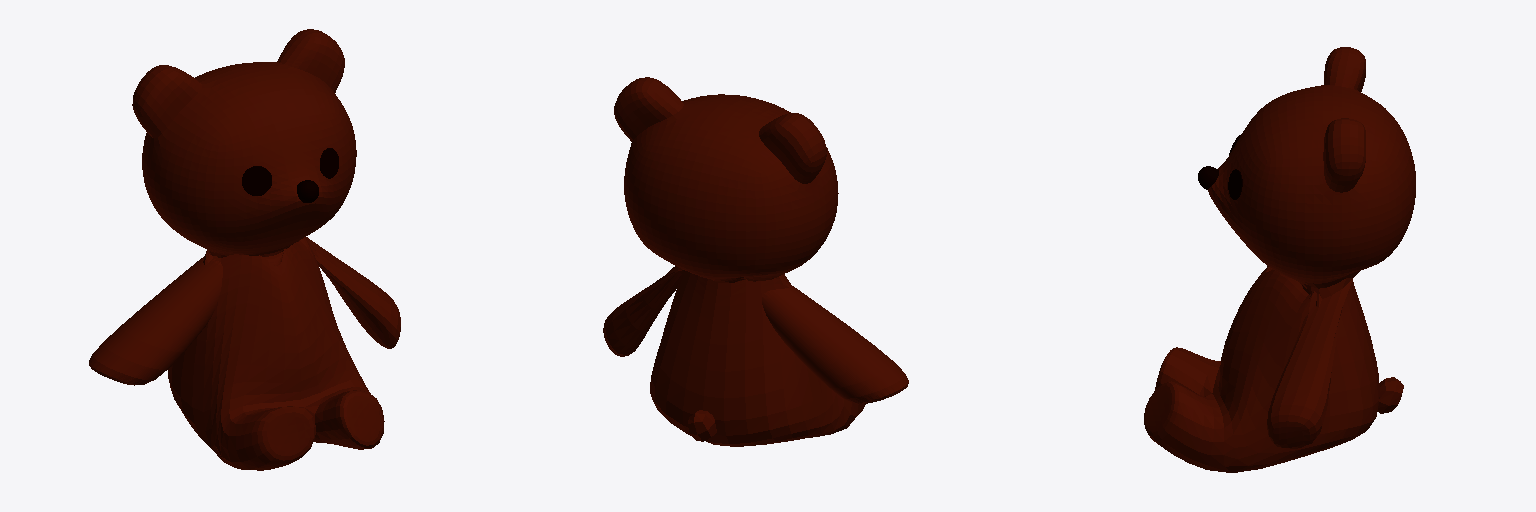
The model's file is TeddyBear.obj.
3 views of the same model, side by side, from view 1: azimuth 30°, elevation 25°; view 2: azimuth 150°, elevation 25°; view 3: azimuth 270°, elevation 25° (orthographic).
Parts seen in each view (by area): view 1: Cube, Circle.001, Circle; view 2: Cube, Circle.001, Cube.002; view 3: Cube, Cube.002.
Part boxes in pixels (x1,y1,x2,y2): Cube: (132,29,400,470); Circle.001: (89,256,222,385); Circle: (242,148,338,195); Cube: (603,77,865,446); Circle.001: (762,279,908,403); Cube.002: (688,410,716,441); Cube: (1144,47,1415,472); Cube.002: (1378,377,1403,413).
Bounding box in the file's own units: 2.99 × 3.41 × 2.35.